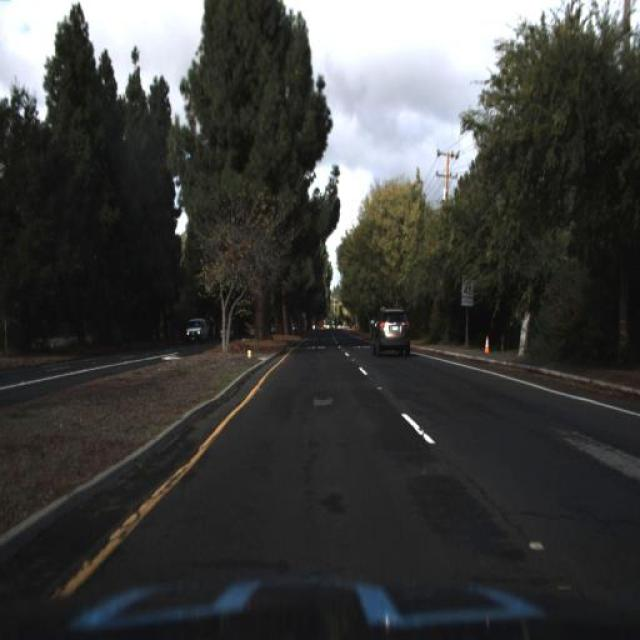car: (371, 308, 410, 352), (183, 314, 211, 345), (181, 315, 204, 341)
